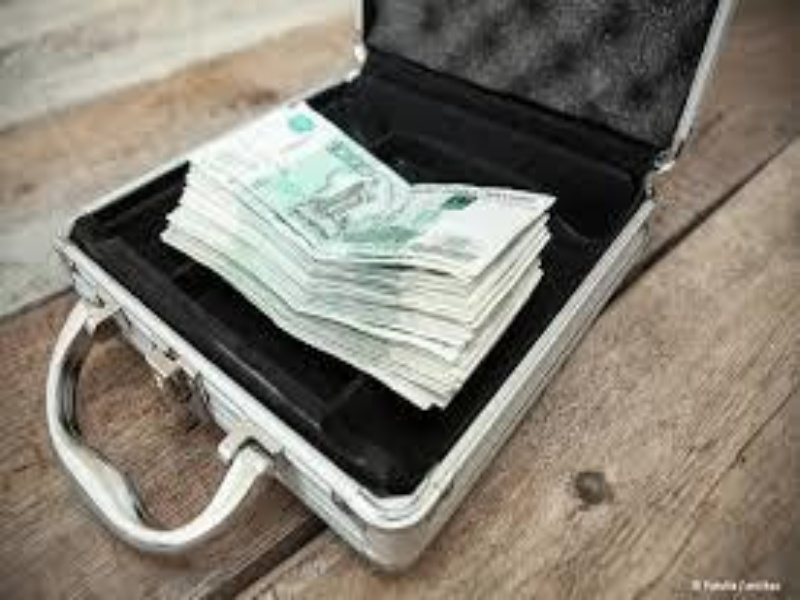cash: (159, 103, 557, 409)
